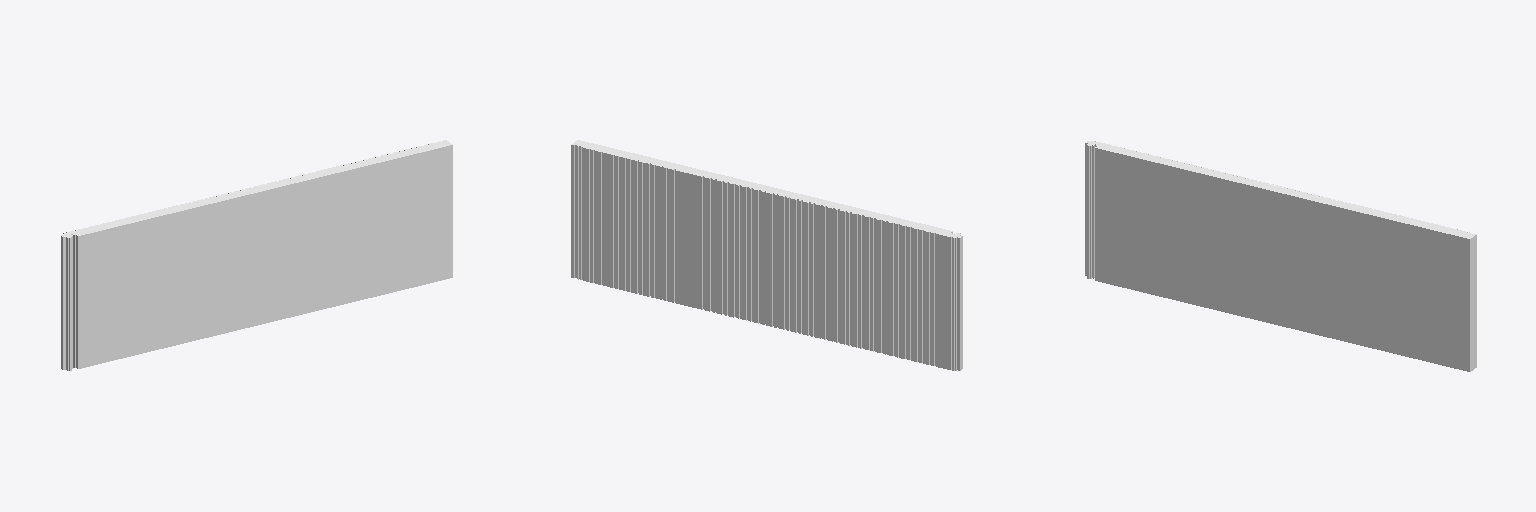
File: main_floor-0-main_floor.obj
3 views of the same model, side by side, from view 1: azimuth 30°, elevation 25°; view 2: azimuth 150°, elevation 25°; view 3: azimuth 330°, elevation 25° (orthographic).
Parts seen in each view (by area): view 1: main_floor; view 2: main_floor; view 3: main_floor.
Boxes of the visible parts, x1=… form: main_floor: x1=61, y1=140, x2=452, y2=370; main_floor: x1=571, y1=140, x2=962, y2=370; main_floor: x1=1085, y1=141, x2=1476, y2=371.
Size of the model in its own units: 25.6 by 8.4 by 0.8.